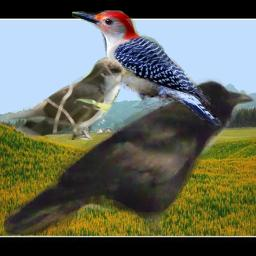Crow: (4, 78, 256, 235)
Cuckoo: (0, 57, 136, 140)
Woodpecker: (72, 10, 222, 126)
